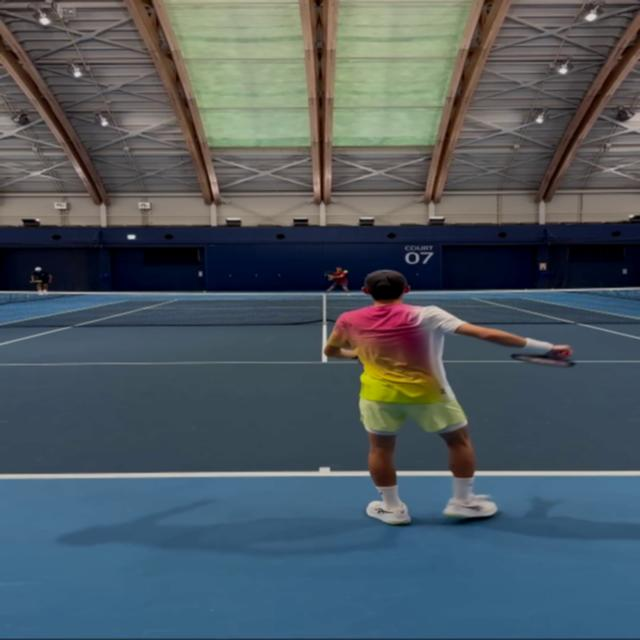tennis_ball: (344, 271, 348, 273)
